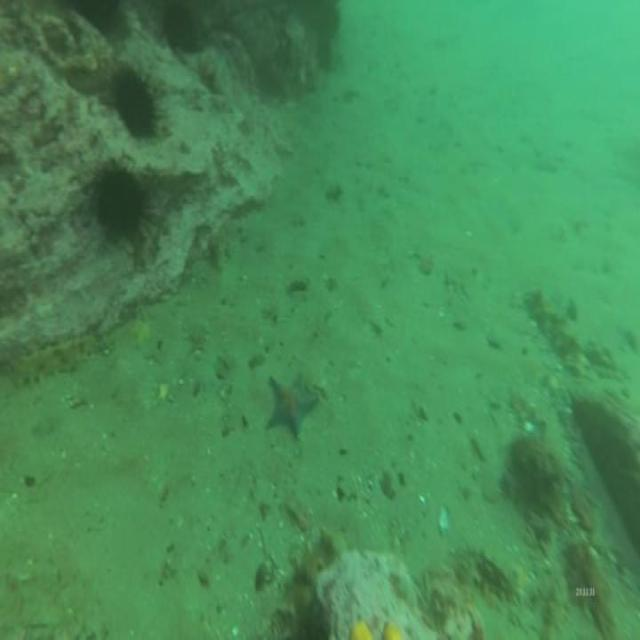echinus: (92, 158, 150, 261), (105, 57, 159, 142)
starfish: (268, 368, 320, 444)
